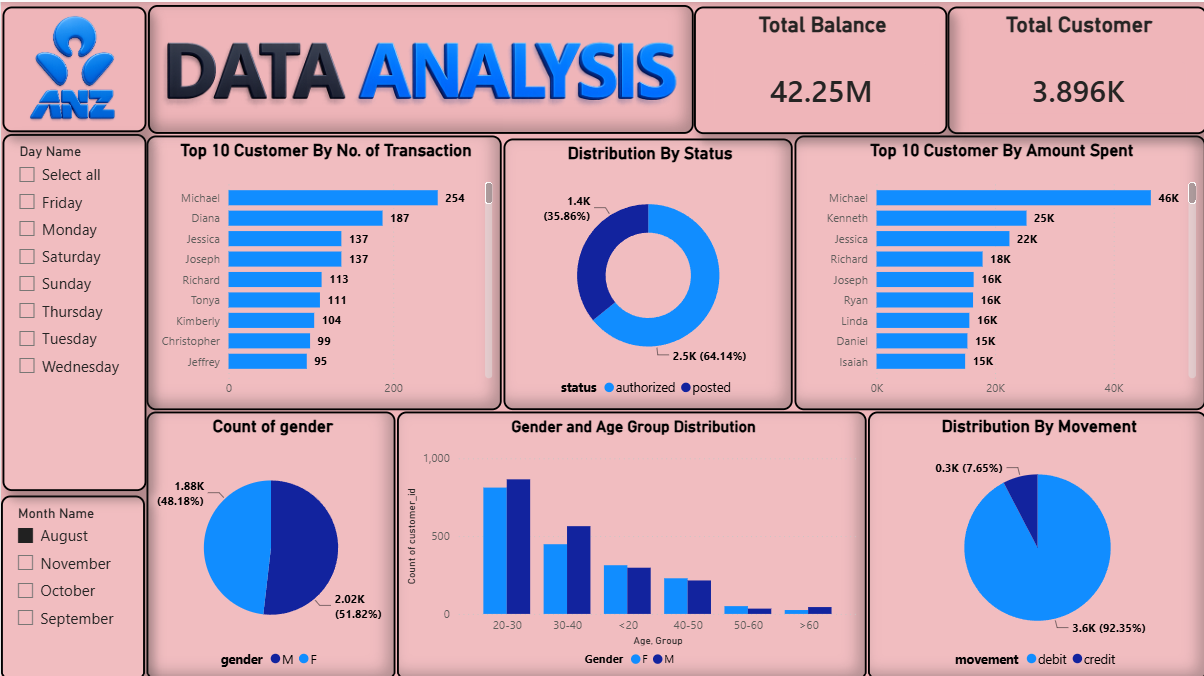

The page's visual inventory and layout, read from the dashboard file:
{"tool":"powerbi","page":{"name":"Page 1","canvas":[1280,720],"ordinal":0},"visuals":[{"type":"pieChart","title":"Count of gender  ","fields":{"Category":["ANZ (2).gender"],"Y":["CountNonNull(ANZ (2).gender)"]},"box":[154.3,433.7,264,286.3],"z":0},{"type":"clusteredColumnChart","title":"Gender and Age Group Distribution","fields":{"Category":["ANZ (2).Age, Group"],"Y":["CountNonNull(ANZ (2).customer_id)"],"Series":["ANZ (2).gender"]},"box":[419.9,433.7,497.9,286.3],"z":1000},{"type":"barChart","title":"Top 10 Customer By No. of Transaction","fields":{"Category":["ANZ (2).first_name"],"Y":["CountNonNull(ANZ (2).customer_id)"]},"box":[154.3,141.6,377,291.1],"z":2000},{"type":"barChart","title":"Top 10 Customer By Amount Spent ","fields":{"Category":["ANZ (2).first_name"],"Y":["Sum(ANZ (2).amount)"]},"box":[839.8,141.6,435.8,291.1],"z":3000},{"type":"donutChart","title":"Distribution By Status  ","fields":{"Category":["ANZ (2).status"],"Y":["CountNonNull(ANZ (2).status)"]},"box":[532.9,144.7,307,287.9],"z":4000},{"type":"pieChart","title":"Distribution By Movement  ","fields":{"Category":["ANZ (2).movement"],"Y":["CountNonNull(ANZ (2).movement)"]},"box":[919.4,434.2,359.5,286.3],"z":5000},{"type":"slicer","fields":{"Values":["ANZ (2).Month Name"]},"box":[0,523.3,152.7,197.2],"z":6000},{"type":"slicer","fields":{"Values":["ANZ (2).Day Name"]},"box":[1.6,140,152.7,378.6],"z":7000},{"type":"cardVisual","title":"Total Customer","fields":{"Data":["CountNonNull(ANZ (2).customer_id)"]},"box":[1003.7,4.8,275.2,135.2],"z":8000},{"type":"cardVisual","title":"Total Balance ","fields":{"Data":["Sum(ANZ (2).balance)"]},"box":[734.9,4.8,268.8,135.2],"z":9000},{"type":"image","box":[1.6,4.8,152.7,133.6],"z":10000},{"type":"image","box":[155.9,3.2,579,136.8],"z":11000}]}

Visuals, with their boxes in screenshot pixels (x1, y1, x2, y2), scaled from the page's 1280x720 canvas onto the 1204x676 screenshot:
"Count of gender  " pieChart: (145,407,393,675)
"Gender and Age Group Distribution" clusteredColumnChart: (395,407,863,675)
"Top 10 Customer By No. of Transaction" barChart: (145,133,500,406)
"Top 10 Customer By Amount Spent " barChart: (790,133,1200,406)
"Distribution By Status  " donutChart: (501,136,790,406)
"Distribution By Movement  " pieChart: (865,408,1203,675)
slicer - ANZ (2).Month Name: (0,491,144,675)
slicer - ANZ (2).Day Name: (2,131,145,487)
"Total Customer" cardVisual: (944,5,1203,131)
"Total Balance " cardVisual: (691,5,944,131)
image: (2,5,145,130)
image: (147,3,691,131)
